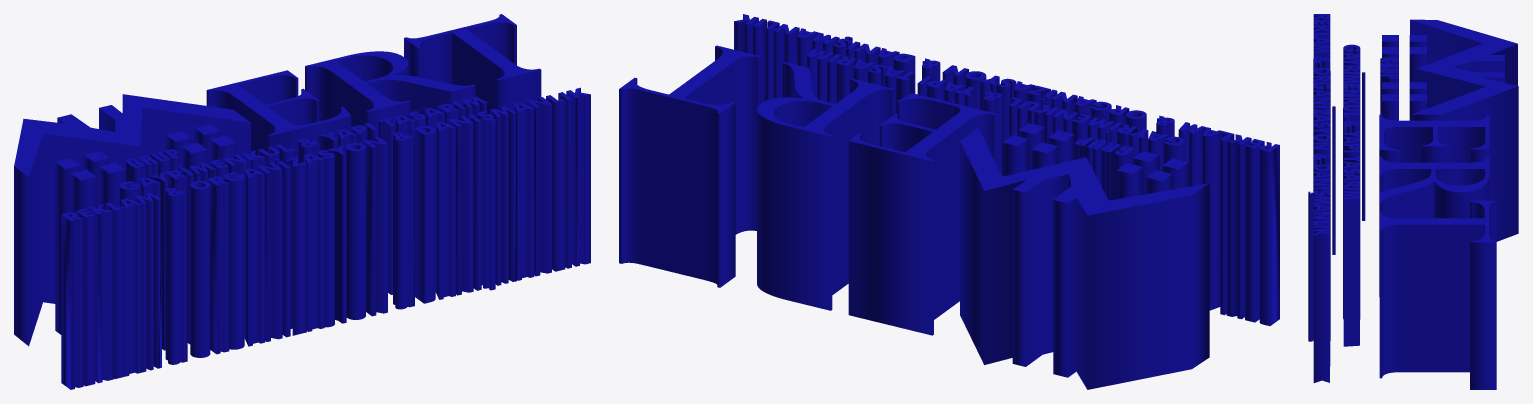
The model's file is merhaba.obj.
3 views of the same model, side by side, from view 1: azimuth 30°, elevation 25°; view 2: azimuth 150°, elevation 25°; view 3: azimuth 270°, elevation 25° (orthographic). The views are drawn at different scales.
Visible parts, largest first — view 1: Curve.004, Curve.001, Curve, Curve.003, Curve.005, Curve.002, Curve.007, Curve.008, Curve.006, Curve.011, Curve.012, Curve.010; view 2: Curve.001, Curve, Curve.004, Curve.003, Curve.002, Curve.010, Curve.006, Curve.011, Curve.009, Curve.007, Curve.012; view 3: Curve.001, Curve, Curve.004, Curve.003, Curve.002, Curve.006, Curve.012, Curve.010, Curve.009, Curve.011, Curve.005, Curve.007.
Boxes of the visible parts, <box> form: Curve.004: <box>61,87,590,389</box>; Curve.001: <box>206,14,541,156</box>; Curve: <box>14,94,250,346</box>; Curve.003: <box>119,96,488,350</box>; Curve.005: <box>55,158,80,334</box>; Curve.002: <box>126,149,178,185</box>; Curve.007: <box>71,169,96,212</box>; Curve.008: <box>99,162,125,209</box>; Curve.006: <box>83,151,109,209</box>; Curve.011: <box>182,142,207,170</box>; Curve.012: <box>210,135,235,162</box>; Curve.010: <box>194,124,220,164</box>; Curve.001: <box>619,45,997,335</box>; Curve: <box>960,128,1209,389</box>; Curve.004: <box>734,14,1279,325</box>; Curve.003: <box>807,48,1184,175</box>; Curve.002: <box>1075,137,1133,200</box>; Curve.010: <box>1002,135,1028,176</box>; Curve.006: <box>1116,163,1142,199</box>; Curve.011: <box>1048,130,1074,163</box>; Curve.009: <box>1031,142,1058,169</box>; Curve.007: <box>1162,158,1188,189</box>; Curve.012: <box>1018,123,1044,170</box>; Curve.001: <box>1379,114,1496,389</box>; Curve: <box>1410,19,1518,241</box>; Curve.004: <box>1308,14,1335,382</box>; Curve.003: <box>1343,44,1365,346</box>; Curve.002: <box>1380,57,1398,114</box>; Curve.006: <box>1409,47,1426,82</box>; Curve.012: <box>1382,94,1398,120</box>; Curve.010: <box>1409,94,1426,120</box>; Curve.009: <box>1409,82,1426,94</box>; Curve.011: <box>1382,82,1398,94</box>; Curve.005: <box>1409,35,1426,46</box>; Curve.007: <box>1382,35,1398,46</box>.
Bounding box in the file's own units: 9.96 × 3 × 3.88.
